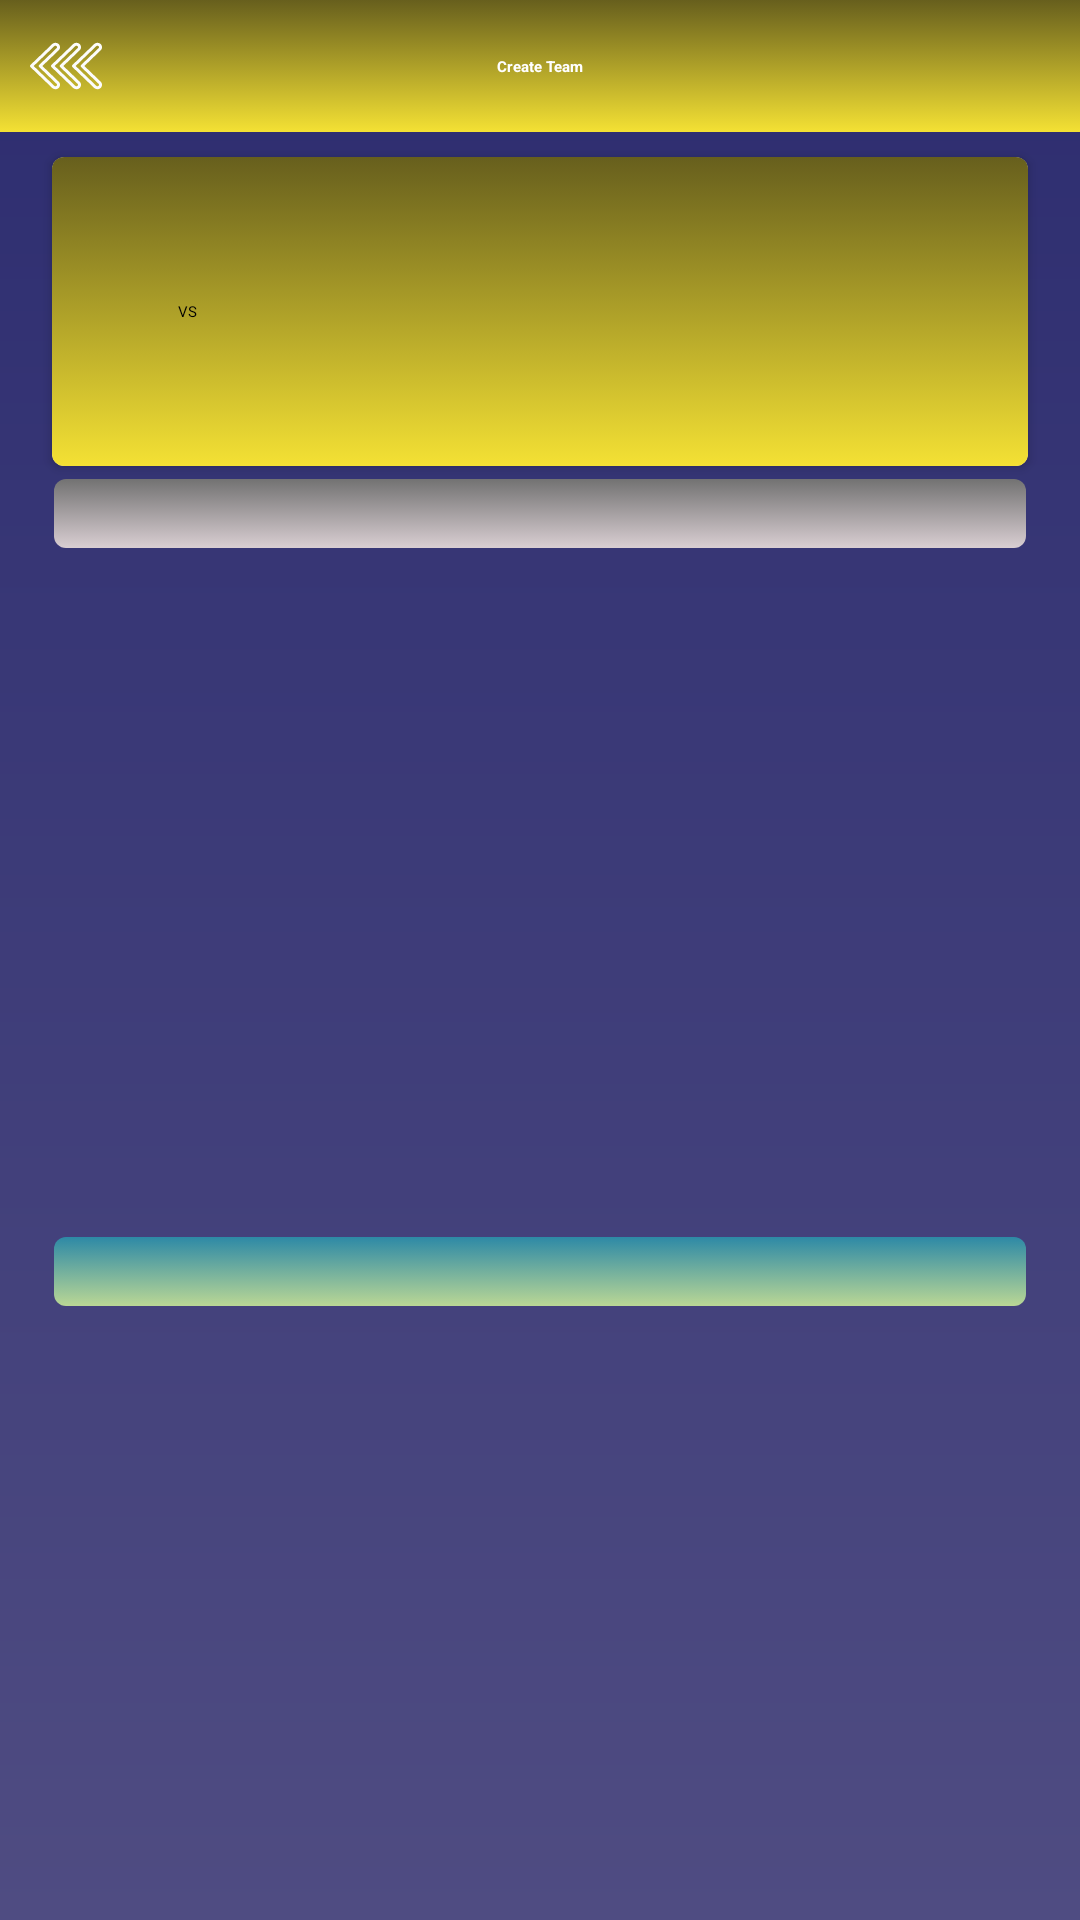

Named icons in this screenshot (1080 × 1920) and their centers, (x=x, y=y):
arrow back: (x=66, y=66)
